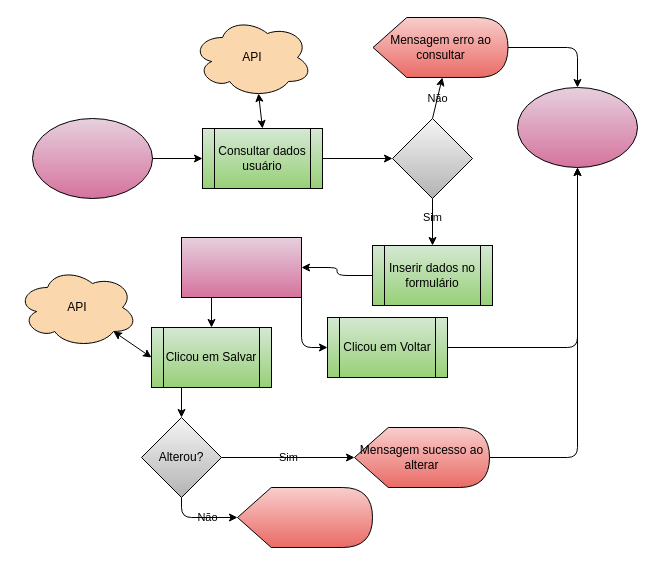
Image size: 655x565. Some labels were removed from this diagram. Each missing label, with the centre of its shape:
"Consultou?" belongs at point (432, 158).
"Exibir formulário" belongs at point (241, 267).
"Mensagem erro ao alterar" belongs at point (304, 517).
"Navegar p/ Tela Home Pedidos" belongs at point (577, 127).
"Tela Editar Dados Usuário" belongs at point (92, 158).
